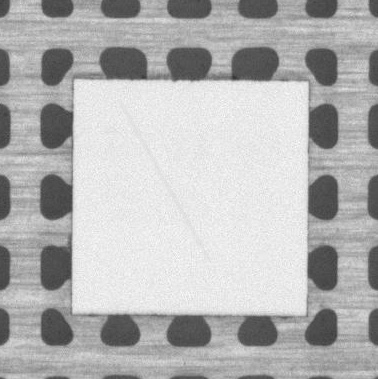DIE_CRACK: (120, 101, 209, 262)
